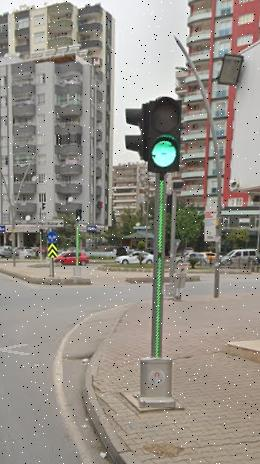greenlight: (145, 100, 180, 175)
